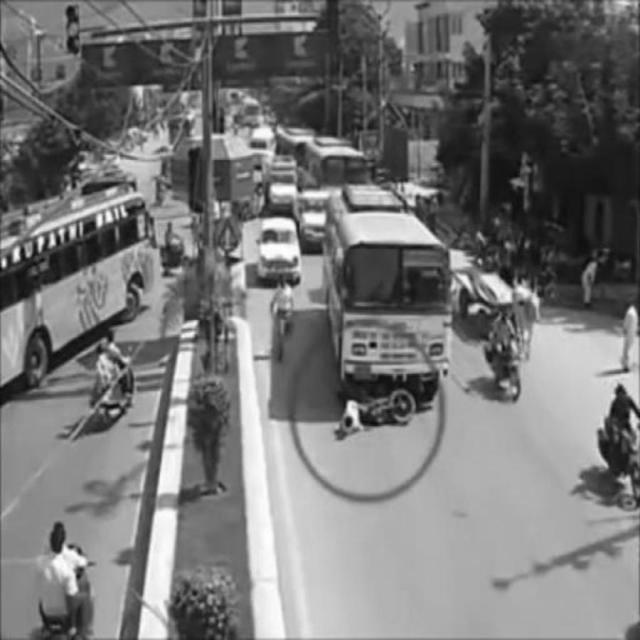accident: (322, 191, 453, 435)
person: (268, 274, 295, 366)
vehicle: (1, 175, 161, 387), (40, 517, 96, 640), (594, 378, 640, 509), (91, 326, 135, 424), (480, 309, 522, 402), (262, 214, 302, 285)
